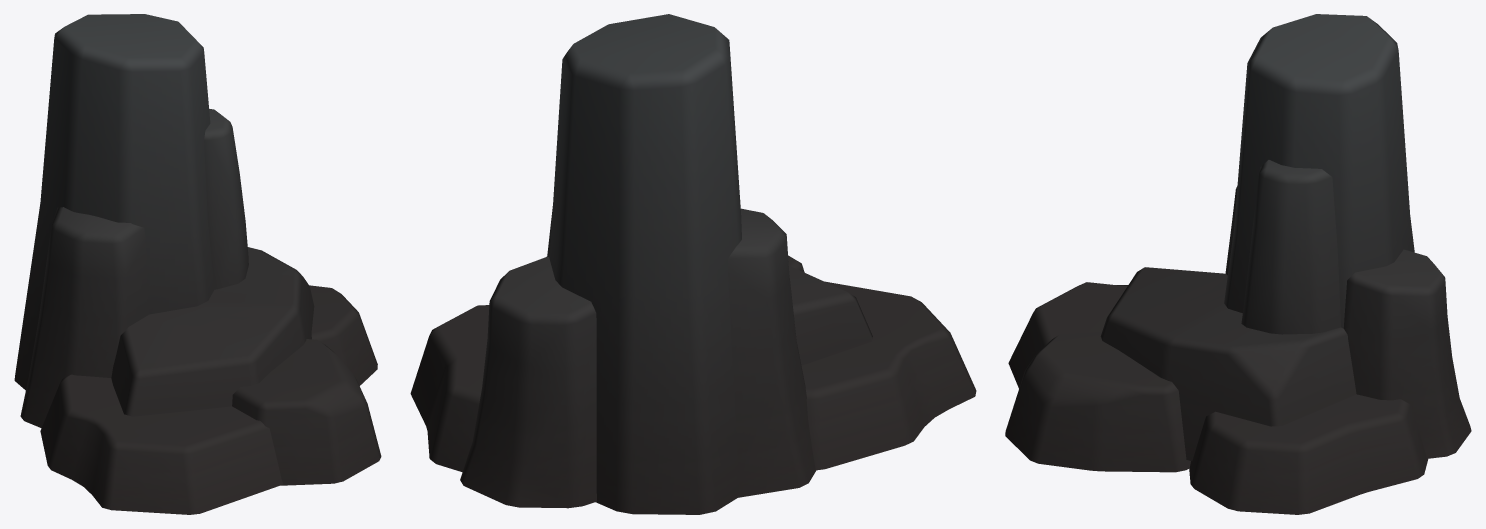
Rendered from inferno-rock-mid-003.glb.
3 views of the same model, side by side, from view 1: azimuth 30°, elevation 25°; view 2: azimuth 150°, elevation 25°; view 3: azimuth 270°, elevation 25° (orthographic). The views are drawn at different scales.
Visible parts, largest first — view 1: RockMid_003; view 2: RockMid_003; view 3: RockMid_003.
Boxes of the visible parts, bbox=[...] form: RockMid_003: bbox=[14, 14, 381, 514]; RockMid_003: bbox=[410, 14, 976, 514]; RockMid_003: bbox=[1005, 14, 1471, 514].
Bounding box in the file's own units: 9.06 × 8.48 × 9.72.
Materials: 1 (1 with a texture image).
